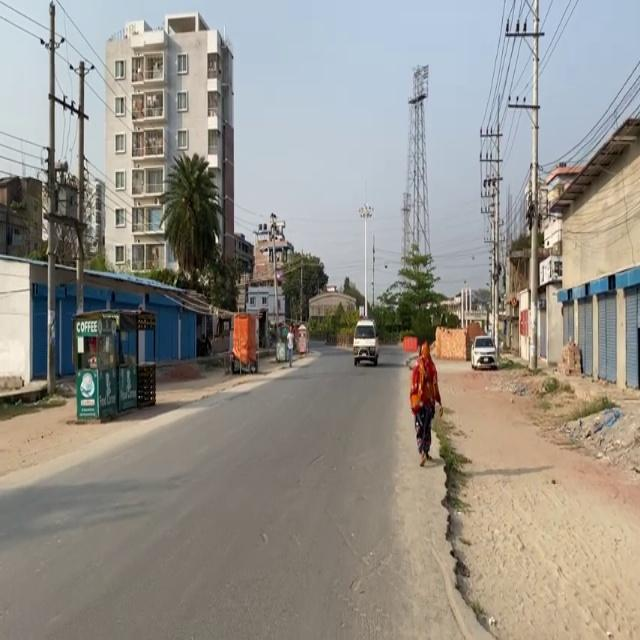Construction-barrier: (389, 343, 471, 639), (430, 400, 498, 639), (432, 403, 471, 598), (426, 535, 498, 639)
Fallen-tree: (228, 349, 258, 374)
Garbage: (71, 307, 156, 423)
Garbage-bin: (408, 340, 442, 466)
Light-pole: (45, 0, 58, 396), (527, 0, 540, 371)
Pothole: (421, 351, 639, 639)
Traffic-cone: (352, 318, 379, 366)
